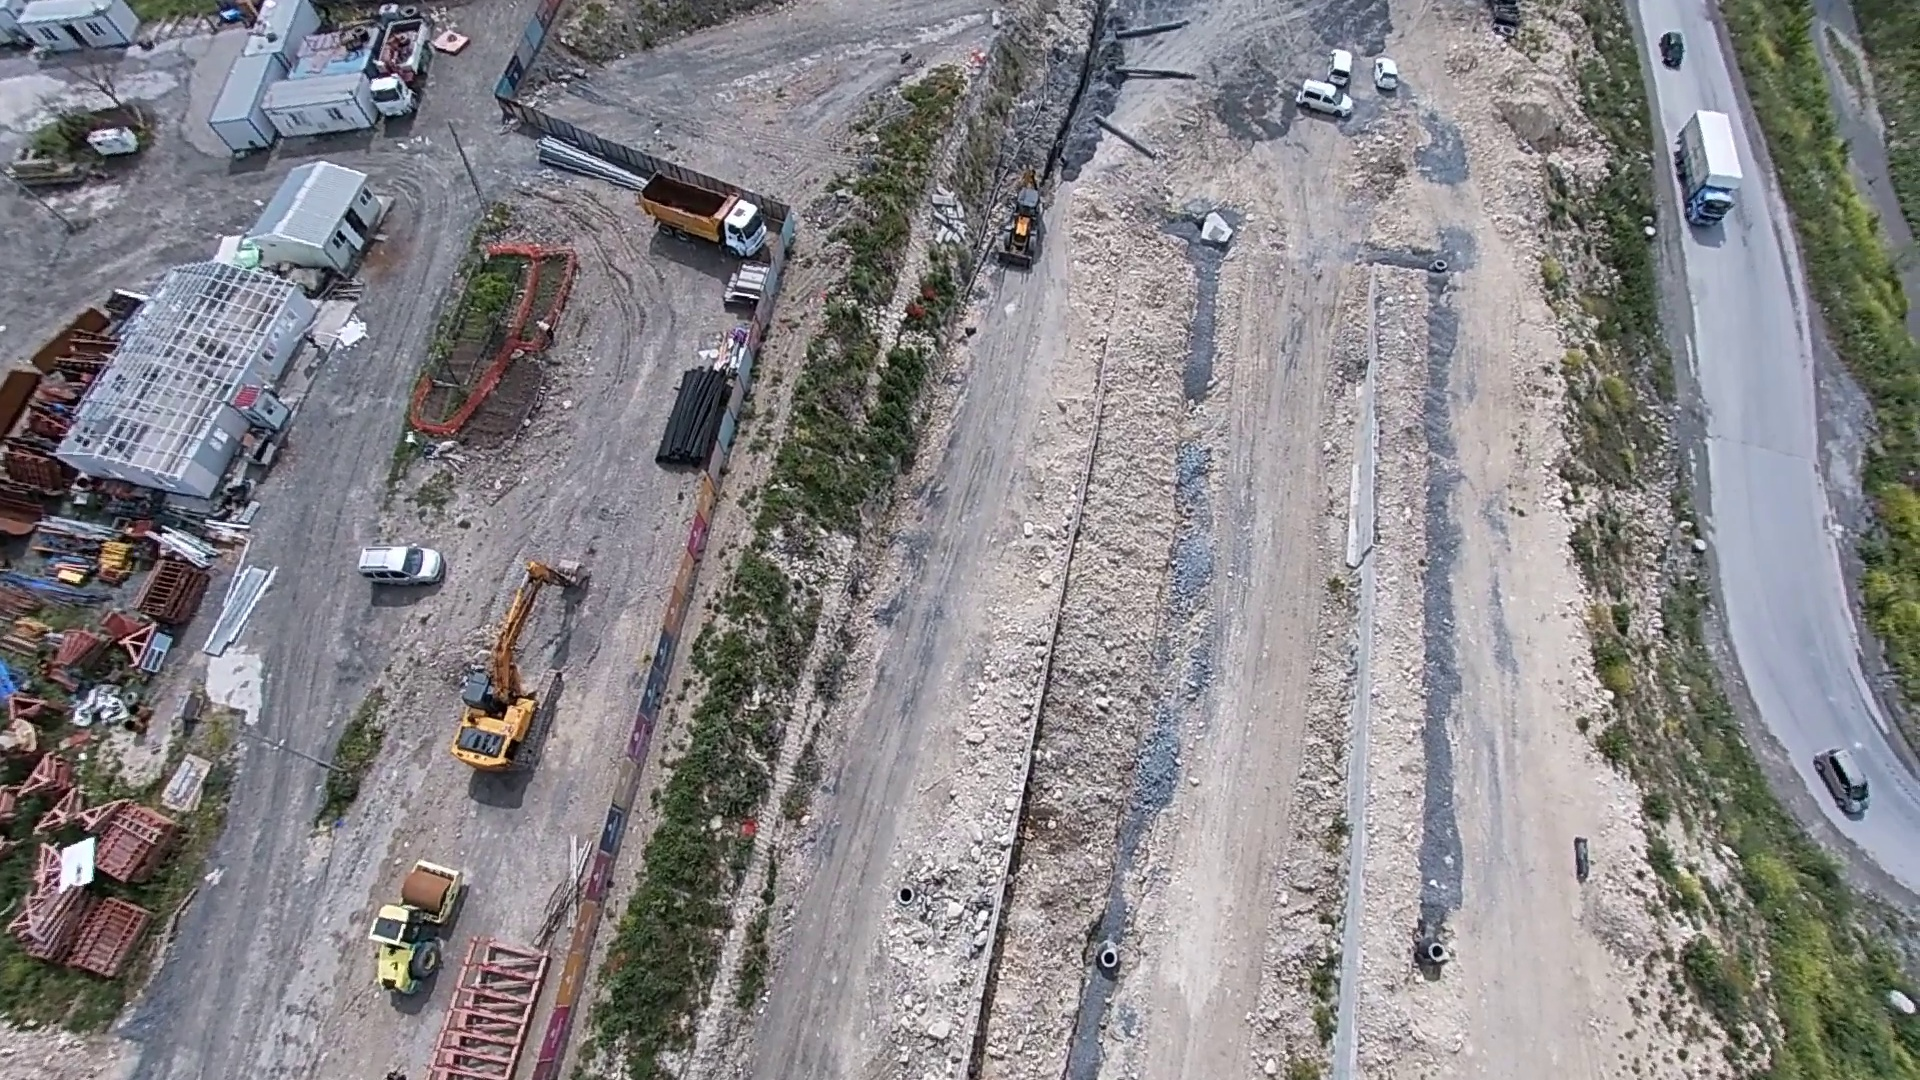arac: (444, 549, 597, 775), (357, 855, 473, 1001), (637, 166, 767, 260), (1673, 107, 1745, 233), (371, 15, 439, 123), (996, 165, 1056, 273), (1818, 740, 1880, 822), (353, 541, 444, 585), (1298, 75, 1353, 123), (1324, 44, 1361, 92), (1656, 22, 1687, 70), (1371, 49, 1404, 90)
